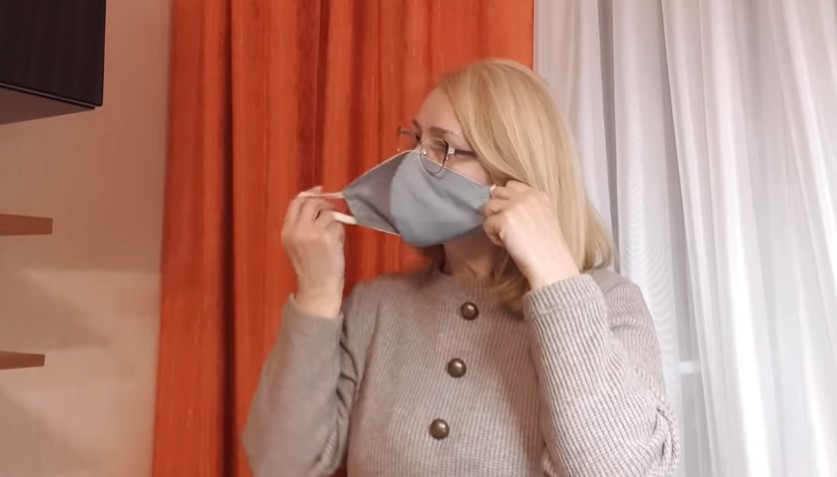face_with_mask: (344, 64, 558, 247)
